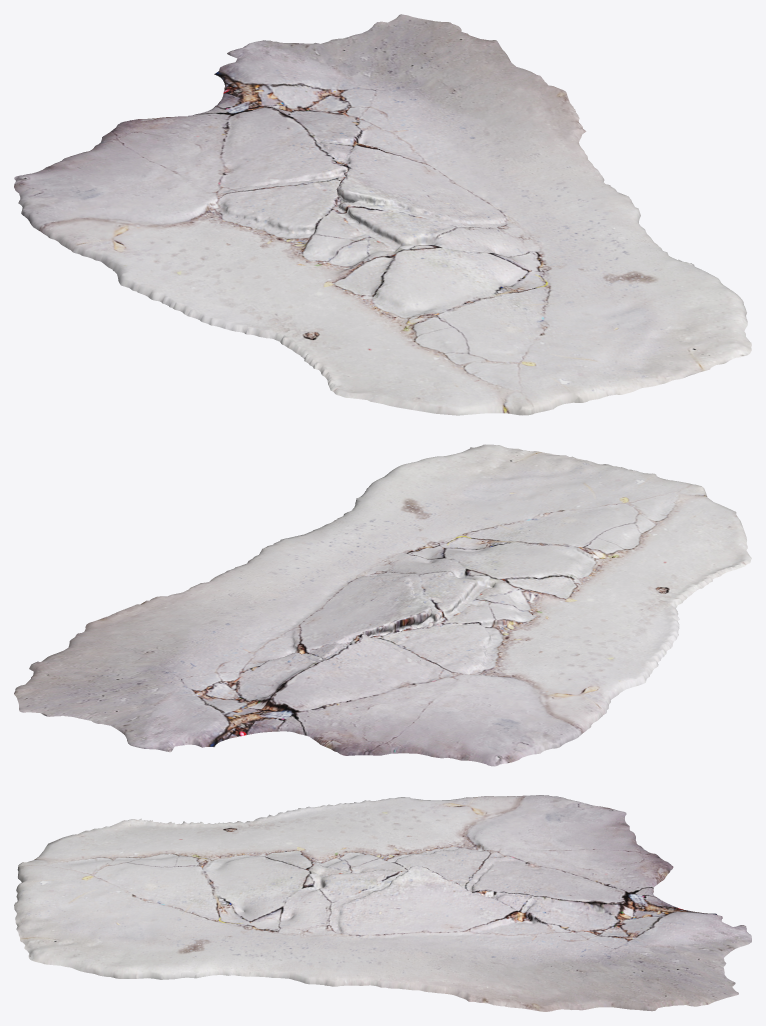
Rendered from Road_hump.FBX.
3 views of the same model, one above another, from view 1: azimuth 30°, elevation 25°; view 2: azimuth 150°, elevation 25°; view 3: azimuth 270°, elevation 25° (orthographic). The views are drawn at different scales.
Visible parts, largest first — view 1: 路面凸起; view 2: 路面凸起; view 3: 路面凸起.
Boxes of the visible parts, bbox=[...] form: 路面凸起: bbox=[14, 14, 751, 415]; 路面凸起: bbox=[14, 444, 751, 766]; 路面凸起: bbox=[14, 795, 751, 1011].
Bounding box in the file's own units: 2.41 × 0.1404 × 3.5.
1 material, 1 textured.
